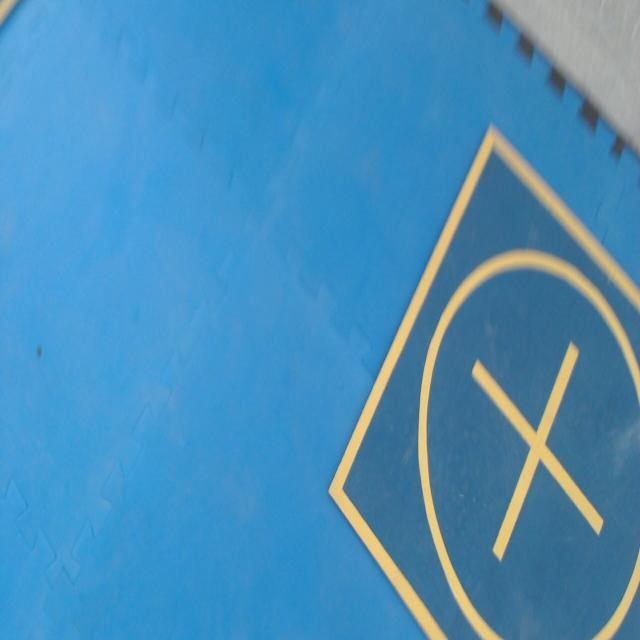base_pouso: (326, 119, 640, 639)
